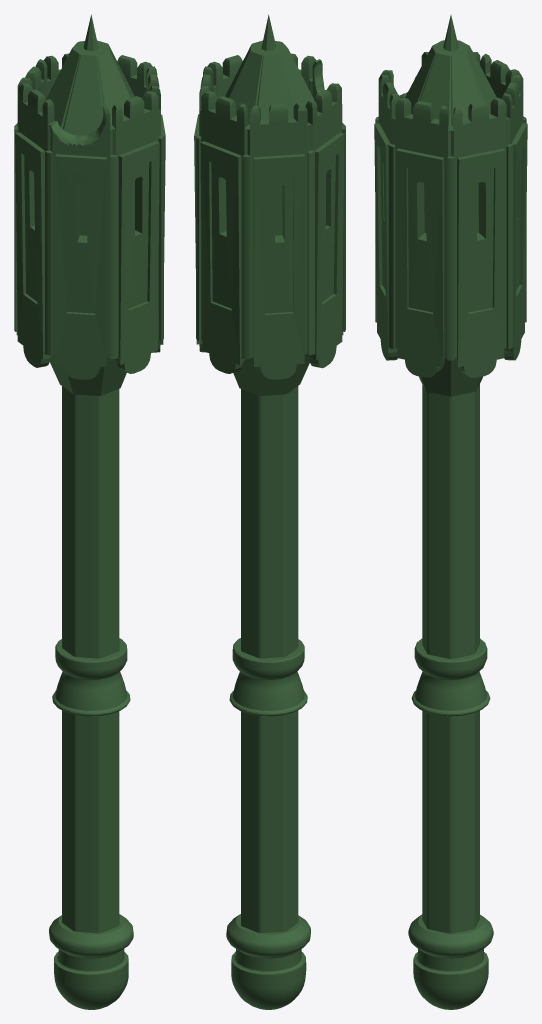
3 renders of one model, left to right at view 1: azimuth 30°, elevation 25°; view 2: azimuth 150°, elevation 25°; view 3: azimuth 270°, elevation 25°, orthographic.
Visible parts, largest first — view 1: defaultobject; view 2: defaultobject; view 3: defaultobject.
Part boxes in pixels (x1,y1,x2,y2): defaultobject: (14, 14, 165, 1009); defaultobject: (194, 14, 345, 1009); defaultobject: (374, 15, 527, 1009).
Bounding box in the file's own units: 0.2743 × 2 × 0.2802.
